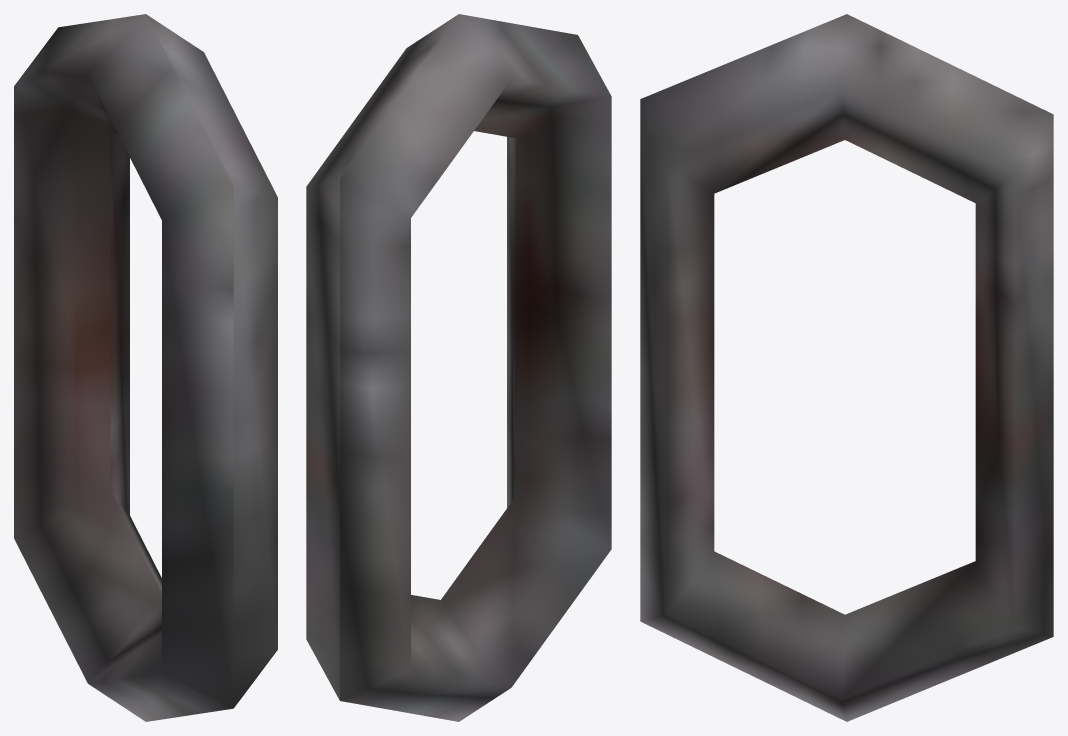
File: Hook.FBX
3 views of the same model, side by side, from view 1: azimuth 30°, elevation 25°; view 2: azimuth 150°, elevation 25°; view 3: azimuth 270°, elevation 25° (orthographic).
Visible parts, largest first — view 1: Hook; view 2: Hook; view 3: Hook.
Part boxes in pixels (bbox=[...]): Hook: bbox=[14, 14, 277, 721]; Hook: bbox=[306, 14, 611, 721]; Hook: bbox=[640, 14, 1053, 721].
Bounding box in the file's own units: 2.83 × 13.96 × 7.39.
